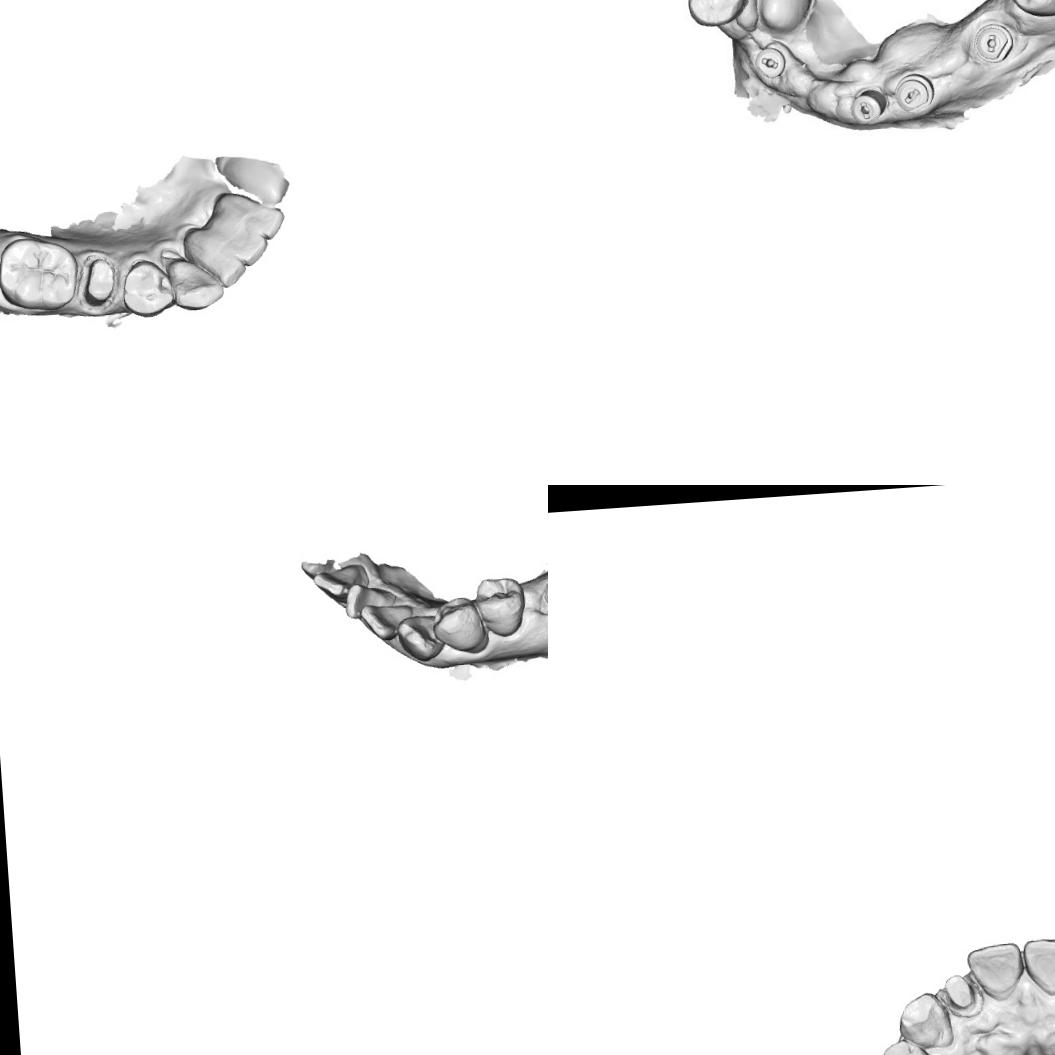canine: (160, 244, 225, 312), (893, 988, 956, 1052), (393, 611, 442, 664)
crown: (72, 250, 122, 314), (942, 970, 978, 1013)
implant_minus: (970, 18, 1016, 67), (892, 69, 935, 114), (847, 85, 888, 126), (751, 42, 788, 82)
incisor: (963, 938, 1026, 1002), (357, 600, 416, 644), (342, 579, 401, 621), (1020, 933, 1055, 1001), (232, 204, 287, 244), (221, 228, 270, 268), (310, 562, 362, 598), (204, 249, 248, 290)
molar: (0, 234, 81, 314)
premolar: (470, 573, 530, 640), (118, 255, 175, 318), (428, 594, 486, 653), (682, 0, 750, 29), (876, 1035, 943, 1055)
